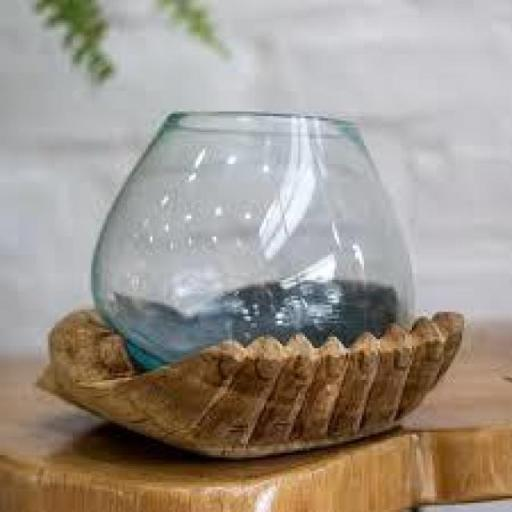glass: (72, 90, 440, 384)
